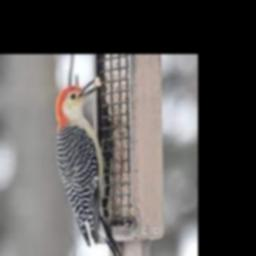Woodpecker: (56, 78, 124, 256)
